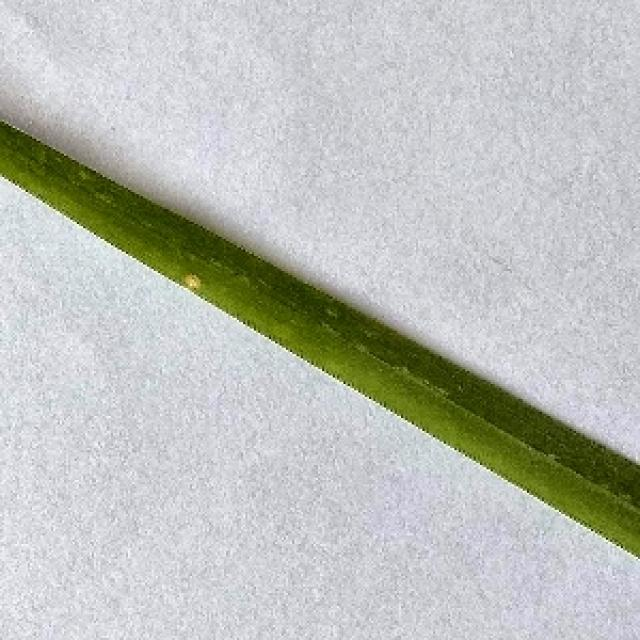Leaf_Blast: (173, 260, 222, 294)
